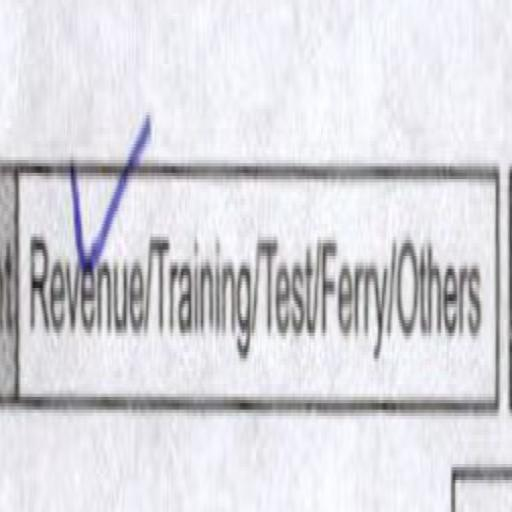check: (26, 89, 150, 421)
